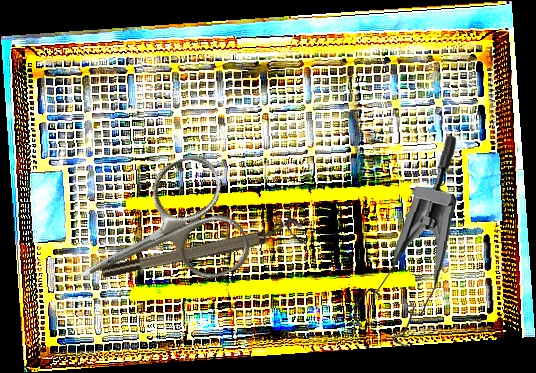Fixation Ring: (98, 215, 306, 282)
Iris Scissors: (54, 148, 257, 330)
Speculum: (345, 132, 461, 349)
